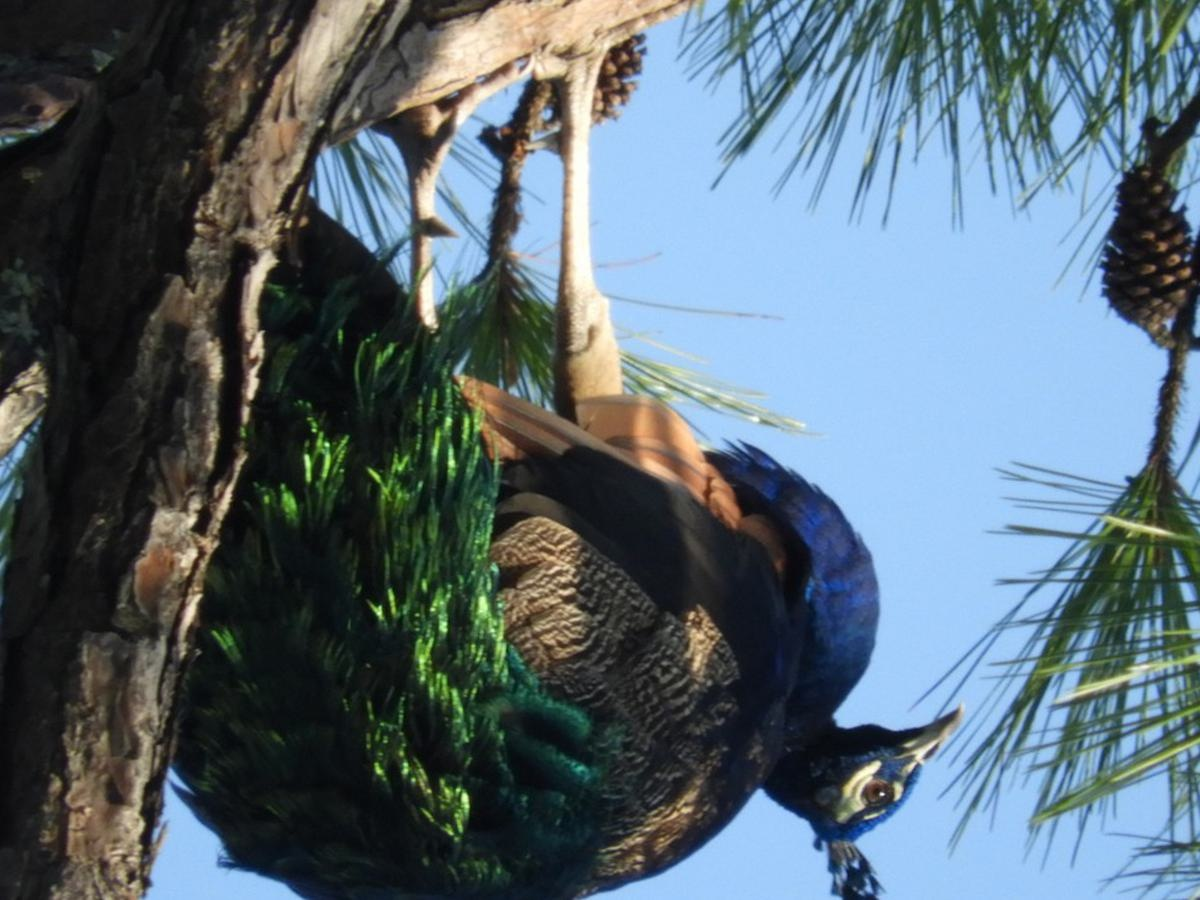peacock: (81, 218, 958, 883)
